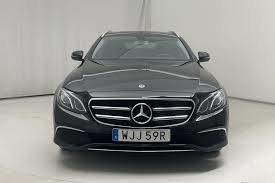license-plates: (111, 127, 172, 143)
